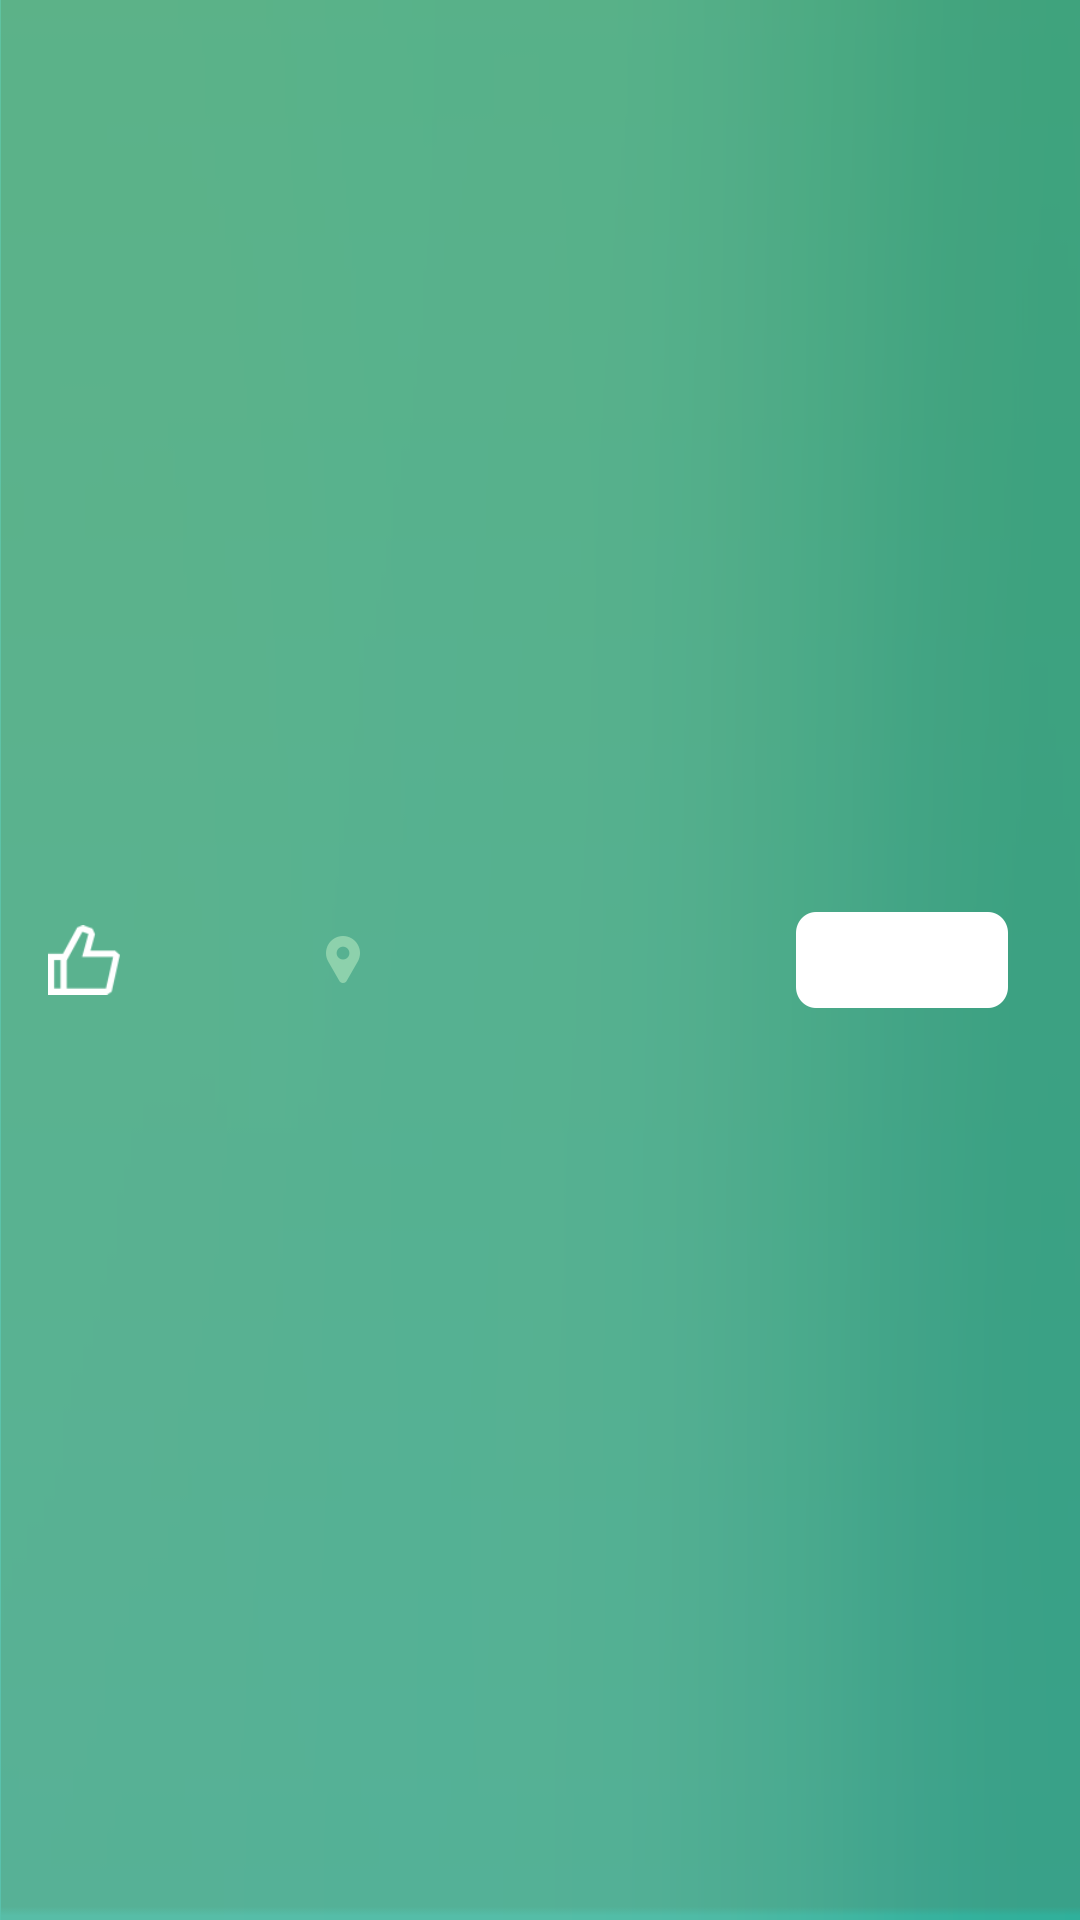

Point at icon controls on the screen. Image size 1080*1920, points as (x=x, y=y).
info pannel good: (x=84, y=960)
